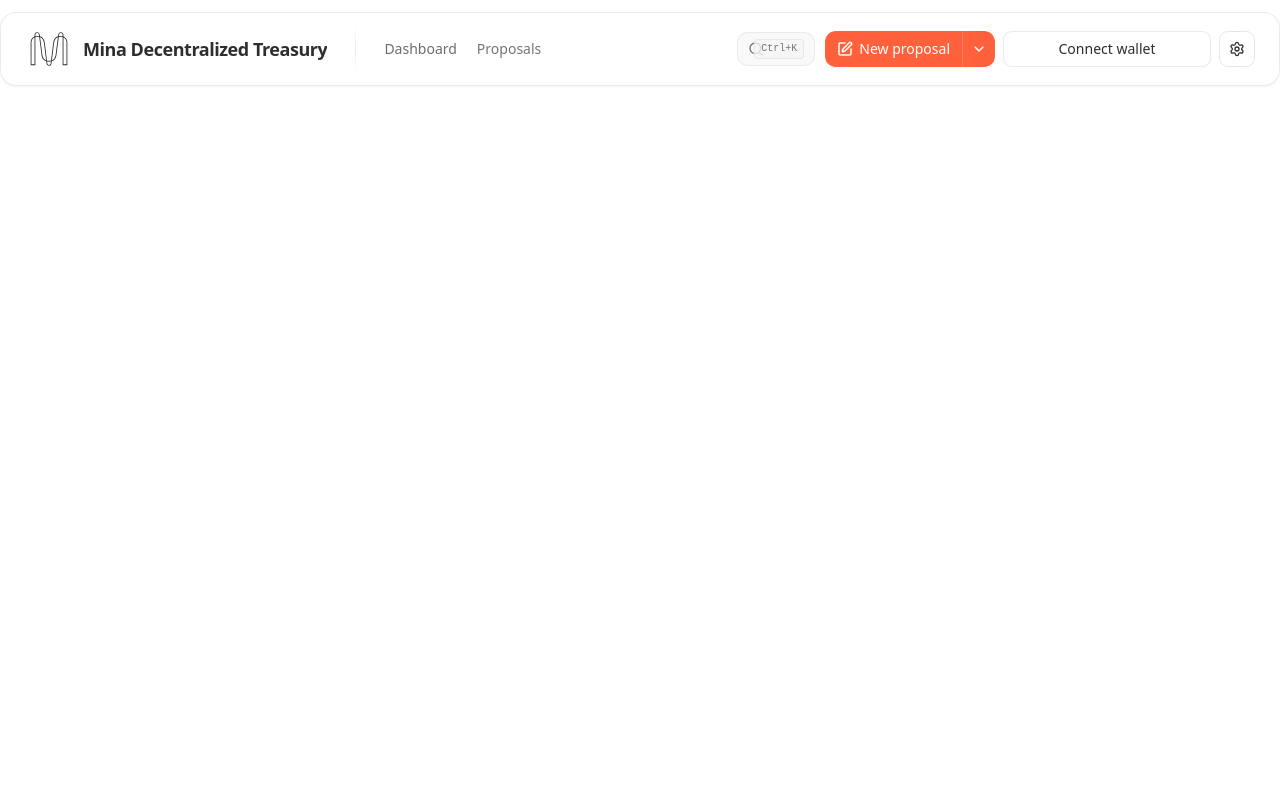
Test: TreasuryWalletHeader › shows an empty state when no draft proposals exist
(page scrolled)
Click the button named "Show draft proposals" at coordinates (978, 49), box 962,31 -> 995,67
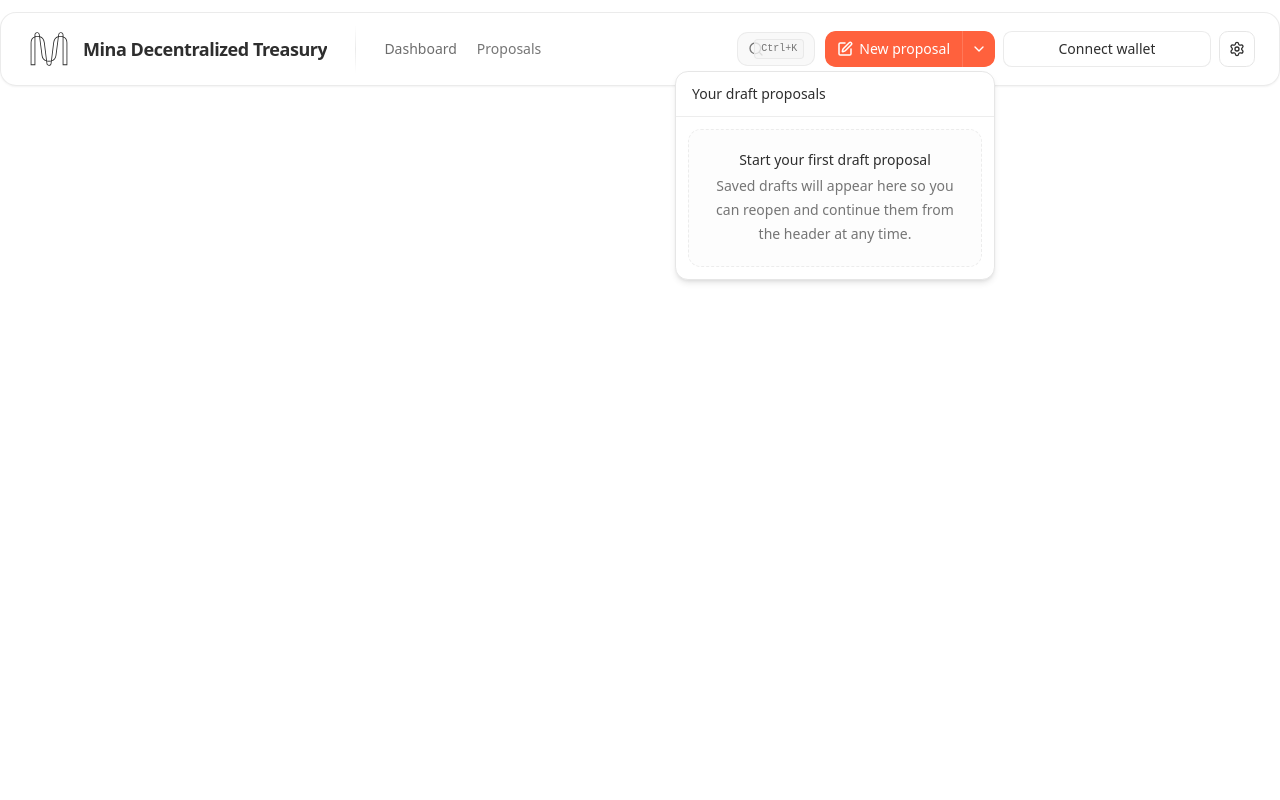
Result: the text "Your draft proposals" is shown at 692,84 -> 826,103
Result: the text "Start your first draft proposal" is shown at 739,150 -> 931,169
Result: the text "Saved drafts will appear here so you can reopen and continue them from the header at any time." is shown at 716,176 -> 954,243
